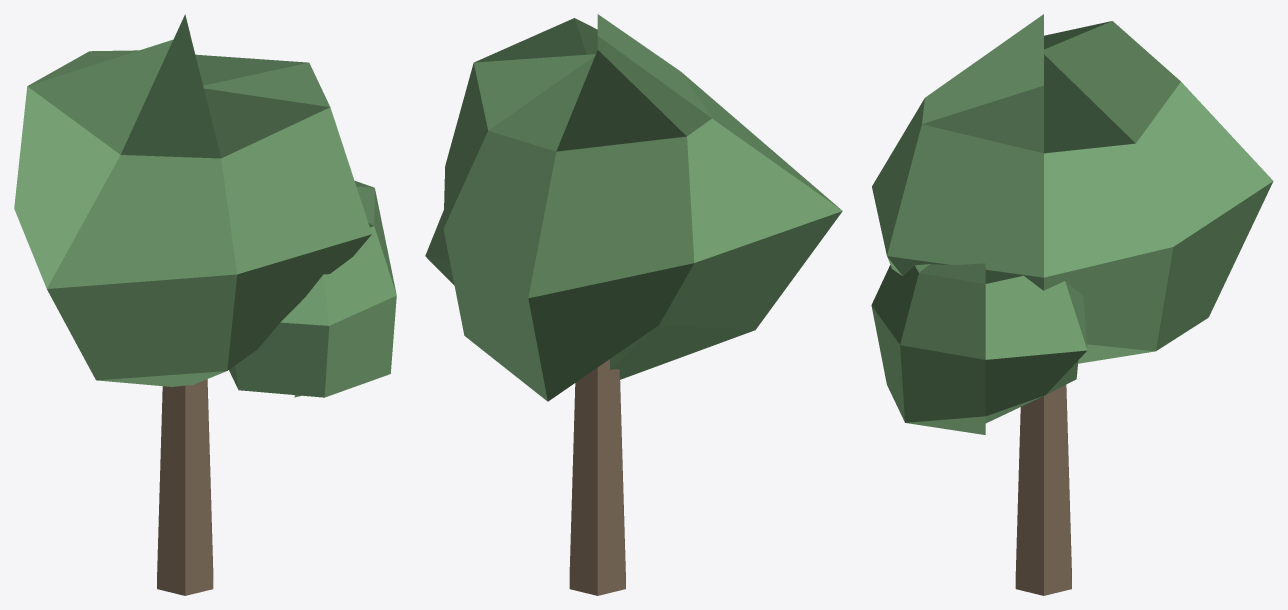
Rendered from tree-broadleaf.gltf.
3 views of the same model, side by side, from view 1: azimuth 30°, elevation 25°; view 2: azimuth 150°, elevation 25°; view 3: azimuth 270°, elevation 25° (orthographic).
Visible parts, largest first — view 1: wildlands-prop; view 2: wildlands-prop; view 3: wildlands-prop.
Part boxes in pixels (box(x1,y1,x2,y2)): wildlands-prop: box(14, 14, 396, 595); wildlands-prop: box(425, 14, 842, 595); wildlands-prop: box(871, 14, 1273, 595).
Bounding box in the file's own units: 3.6 × 5.4 × 3.46.
